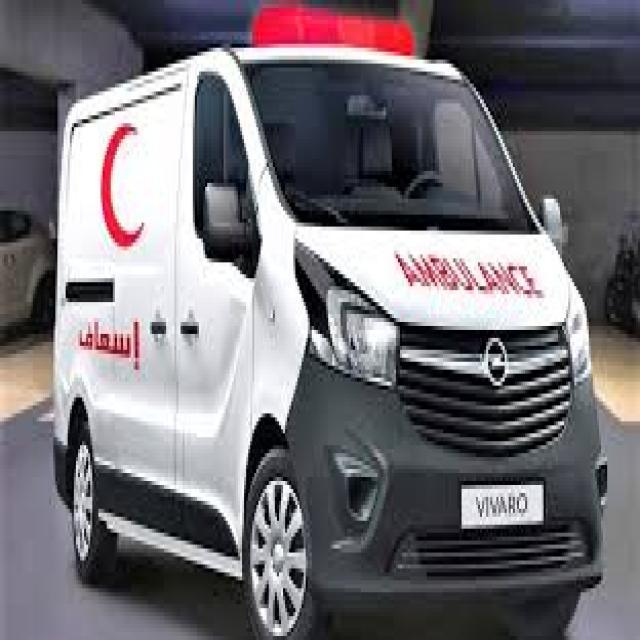ambulance: (48, 8, 609, 640)
